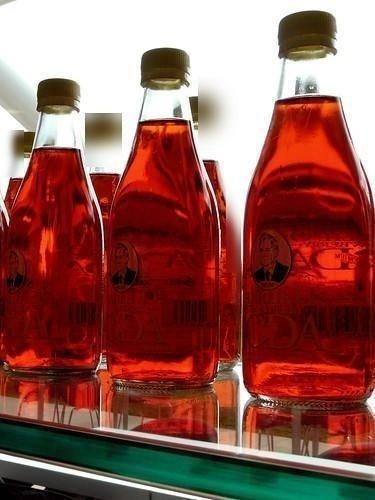bottle-glass: (241, 8, 374, 411), (102, 44, 223, 391), (5, 79, 101, 380)
